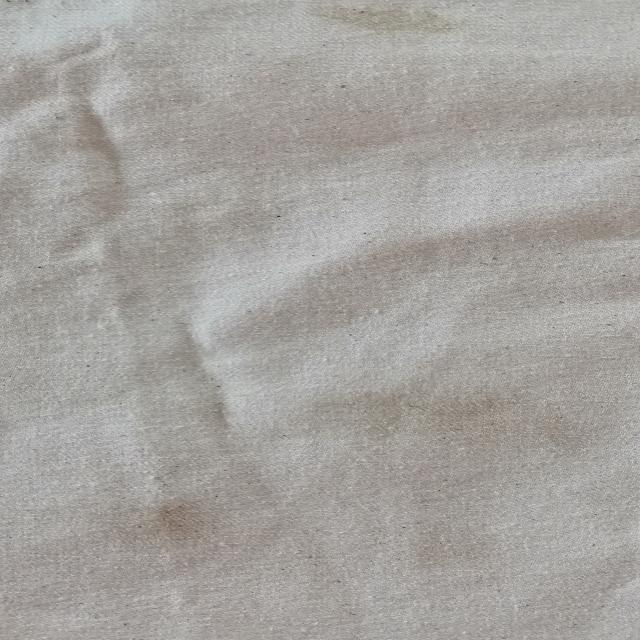taaaches: (276, 376, 584, 446), (90, 480, 242, 566), (383, 493, 516, 585), (300, 0, 493, 52)
